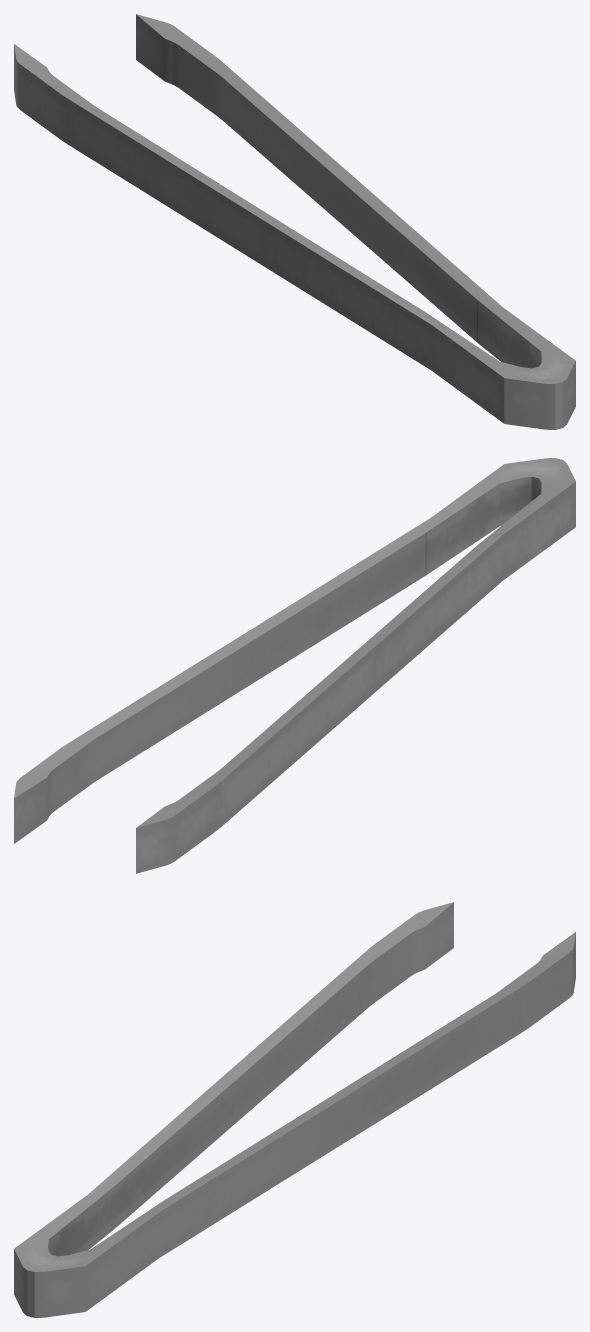
File: tongs.fbx
3 views of the same model, one above another, from view 1: azimuth 30°, elevation 25°; view 2: azimuth 150°, elevation 25°; view 3: azimuth 330°, elevation 25° (orthographic).
Visible parts, largest first — view 1: tongs; view 2: tongs; view 3: tongs.
Part boxes in pixels (bbox=[...]): tongs: bbox=[14, 14, 575, 429]; tongs: bbox=[14, 458, 575, 873]; tongs: bbox=[14, 902, 575, 1317].
Size of the model in its own units: 12.24 by 3.46 by 66.36.
